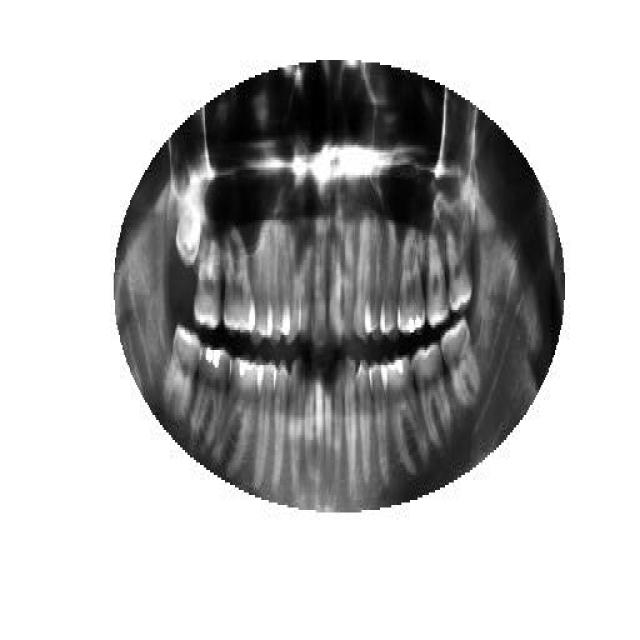Fillings: (214, 353, 261, 475), (190, 345, 231, 443), (397, 227, 428, 335)
